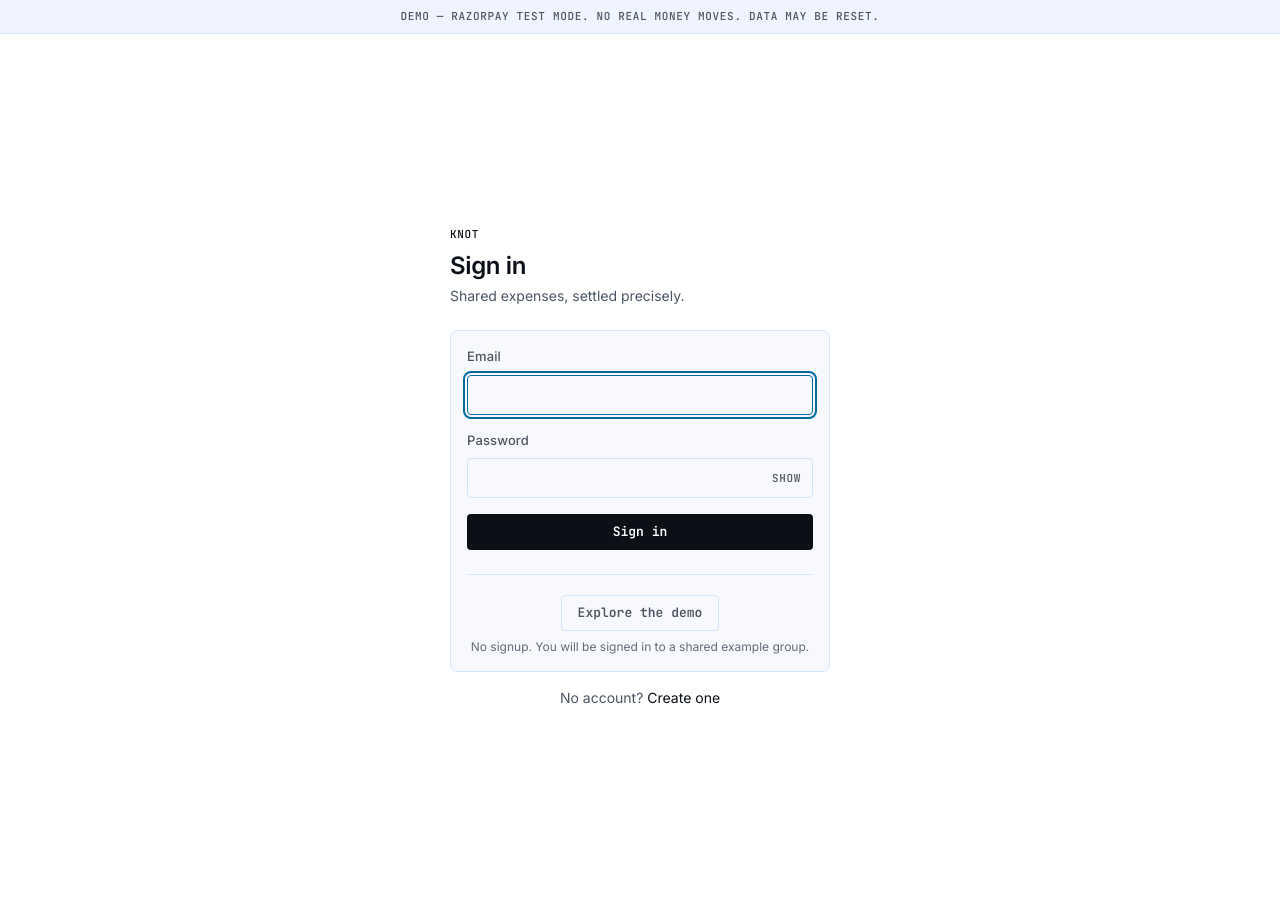
Test: LoginPage › says so when the demo is unavailable rather than failing silently
Click the button "Explore the demo" at point(640, 613), box left=561, top=595, right=719, bottom=631
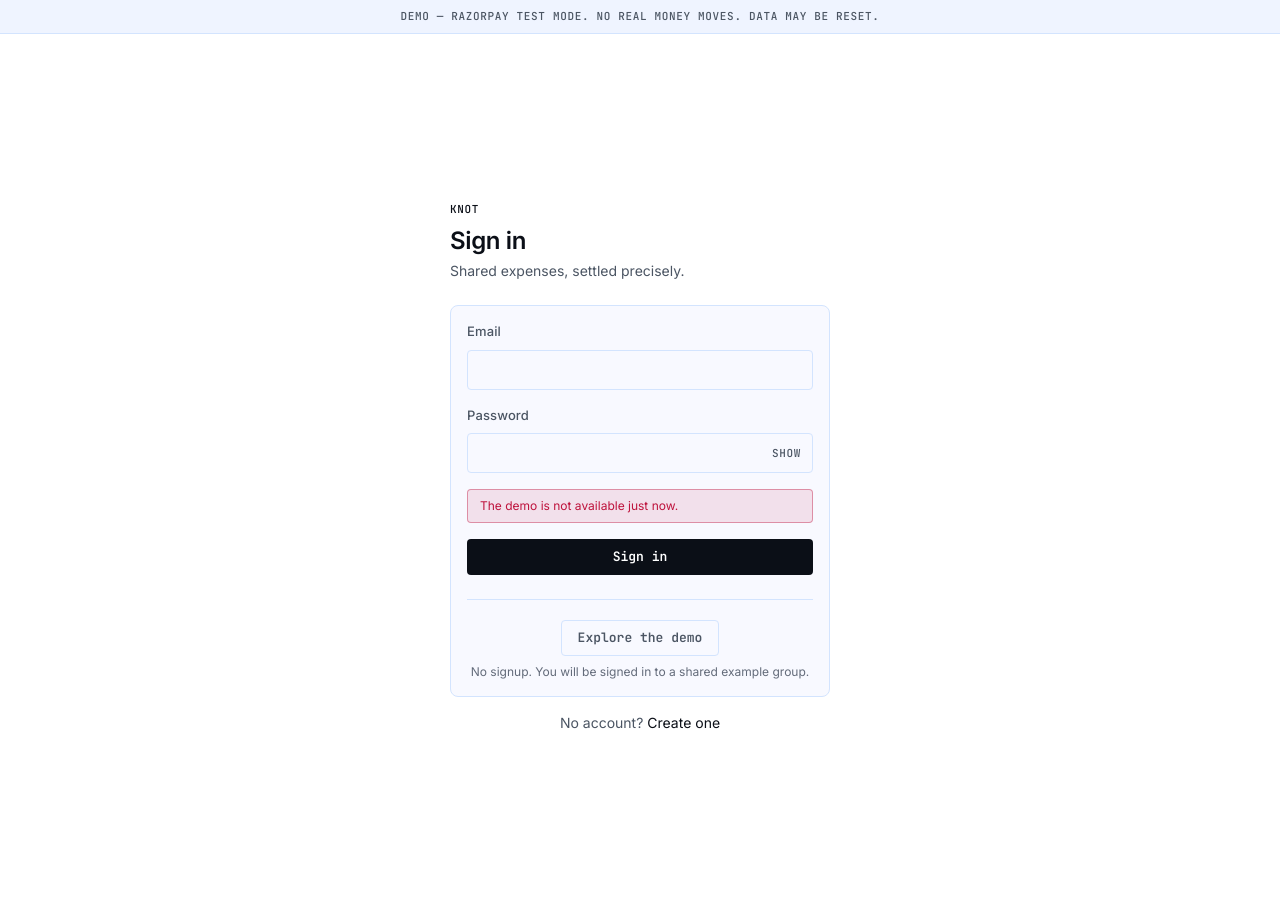
Result: the message shows "The demo is not available" at left=480, top=498, right=678, bottom=513
